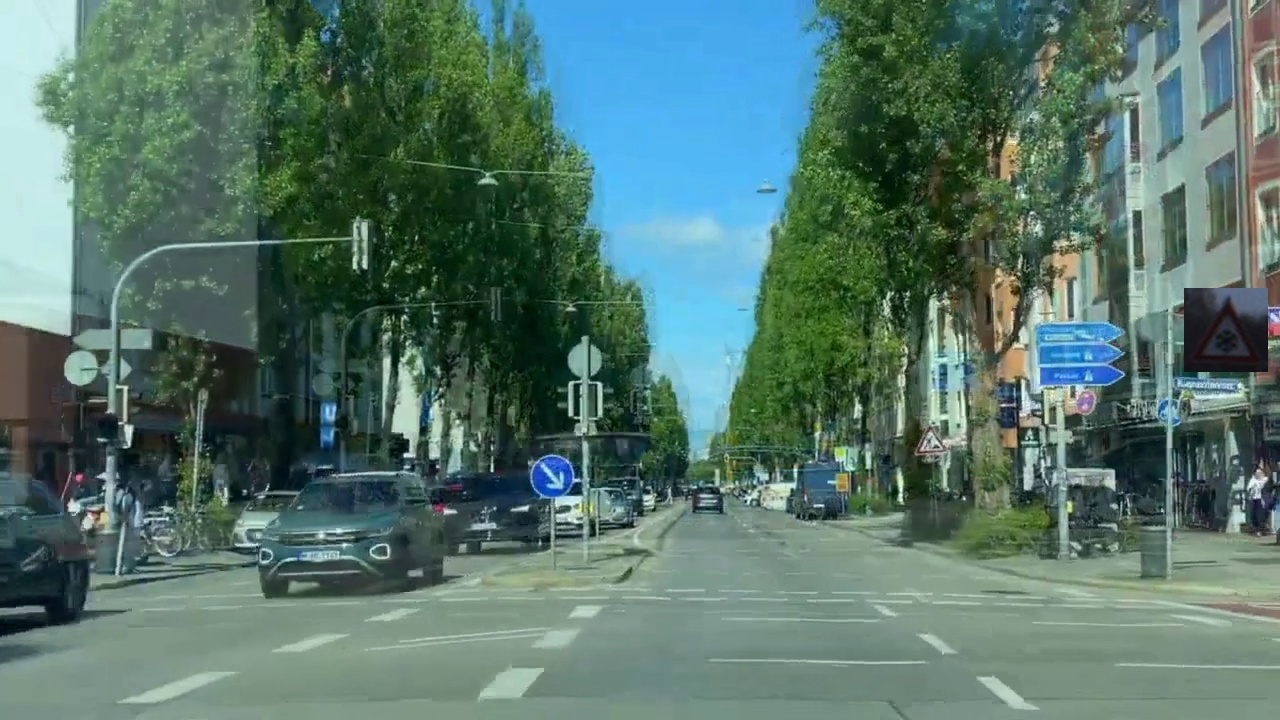Ice/snow: (1184, 288, 1268, 372)
